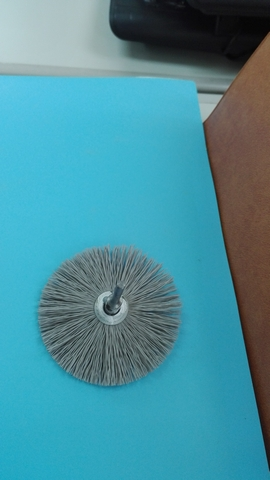TOOL: (20, 232, 244, 402)
